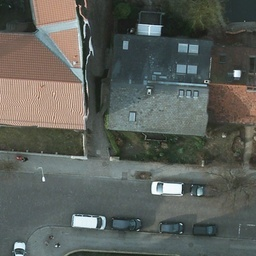car: (110, 214, 142, 232), (190, 182, 222, 199), (159, 220, 183, 235), (194, 222, 218, 235)
van: (72, 213, 105, 233), (149, 180, 184, 195)
